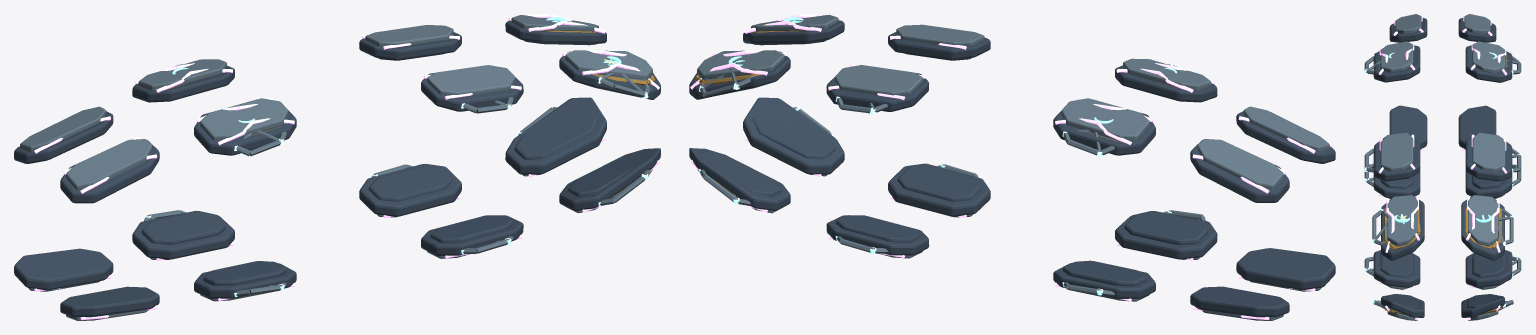
Rendered from plating.glb.
The picture shows the model from 3 angles, left to right: view 1: azimuth 30°, elevation 25°; view 2: azimuth 150°, elevation 25°; view 3: azimuth 270°, elevation 25°; orthographic projection. The views are drawn at different scales.
Visible parts, largest first — view 1: p_heavy Fitting gunmetal, p_heavy Brushed fitting edges, p_aegis Fitting gunmetal, p_heavy p_heavy emitter, p_light Brushed fitting edges, p_reactive Fitting gunmetal; view 2: p_heavy Fitting gunmetal, p_heavy Brushed fitting edges, p_aegis Fitting gunmetal, p_heavy p_heavy emitter, p_light Brushed fitting edges, p_reactive Fitting gunmetal; view 3: p_heavy Fitting gunmetal, p_heavy Brushed fitting edges, p_aegis Fitting gunmetal, p_light Brushed fitting edges, p_heavy p_heavy emitter, p_aegis Champagne gold edging, p_light p_light emitter, p_aegis p_aegis emitter, p_reactive Fitting gunmetal.
Boxes of the visible parts, x1,y1,x2,y2 form: p_heavy Fitting gunmetal: [14, 20, 660, 317]; p_heavy Brushed fitting edges: [20, 15, 652, 320]; p_aegis Fitting gunmetal: [141, 40, 642, 285]; p_heavy p_heavy emitter: [17, 14, 659, 319]; p_light Brushed fitting edges: [144, 18, 650, 296]; p_reactive Fitting gunmetal: [147, 190, 502, 284]; p_heavy Fitting gunmetal: [689, 20, 1335, 317]; p_heavy Brushed fitting edges: [697, 14, 1329, 320]; p_aegis Fitting gunmetal: [700, 40, 1207, 286]; p_heavy p_heavy emitter: [690, 14, 1332, 319]; p_light Brushed fitting edges: [700, 64, 1205, 296]; p_reactive Fitting gunmetal: [847, 190, 1200, 284]; p_heavy Fitting gunmetal: [1373, 18, 1512, 317]; p_heavy Brushed fitting edges: [1380, 14, 1505, 320]; p_aegis Fitting gunmetal: [1380, 180, 1505, 308]; p_light Brushed fitting edges: [1364, 55, 1521, 310]; p_heavy p_heavy emitter: [1378, 15, 1507, 320]; p_aegis Champagne gold edging: [1379, 51, 1506, 316]; p_light p_light emitter: [1364, 55, 1521, 307]; p_aegis p_aegis emitter: [1388, 52, 1497, 224]; p_reactive Fitting gunmetal: [1388, 176, 1493, 183].
Size of the model in its own units: 41.2 by 12.96 by 12.86.
